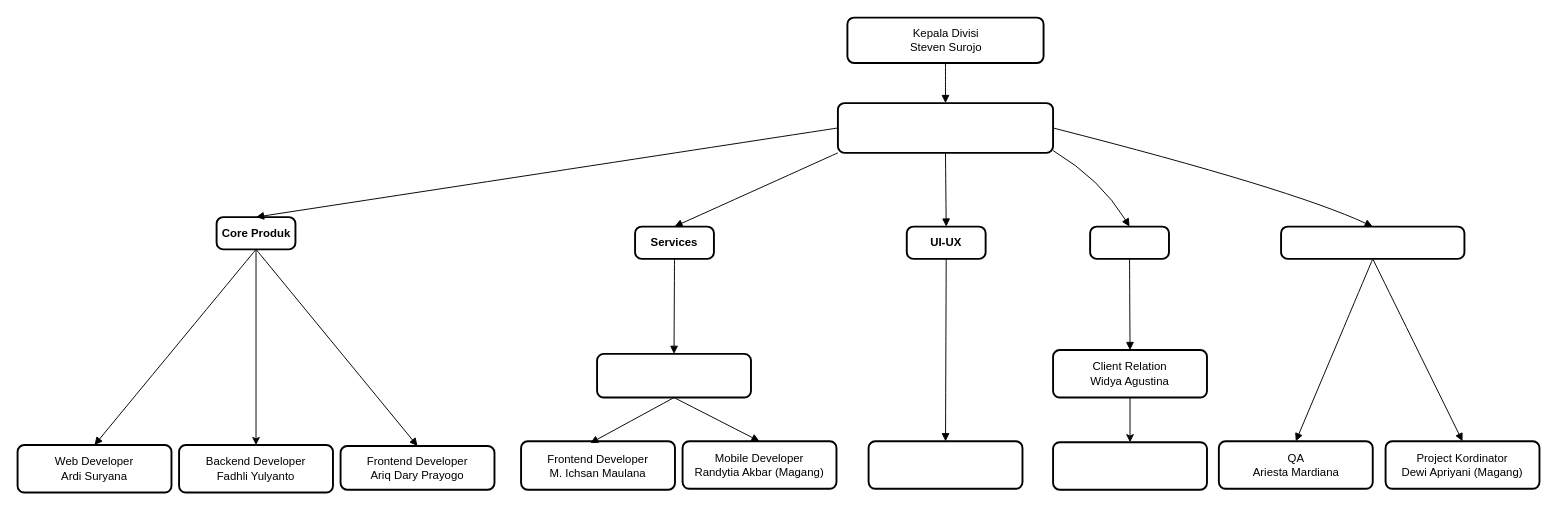
This 1556x509 diagram has some shape labels left out. Each missing label, with the centre of its shape:
"Backend Developer Reza Chrismardianto" goes at (x=673, y=375).
"Client Relation Ibnu Yusuf" goes at (x=1129, y=465).
"CRO" goes at (x=1129, y=242).
"Design Miga Palma Putri" goes at (x=945, y=464).
"Kepala Departement Dhony Kurniawan" goes at (x=945, y=127).
"Produk Development and Quality" goes at (x=1372, y=242).
